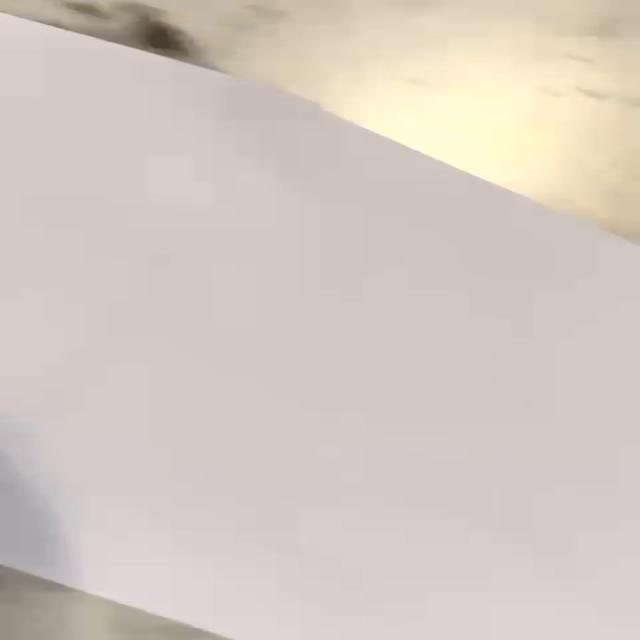road: (0, 14, 640, 640)
